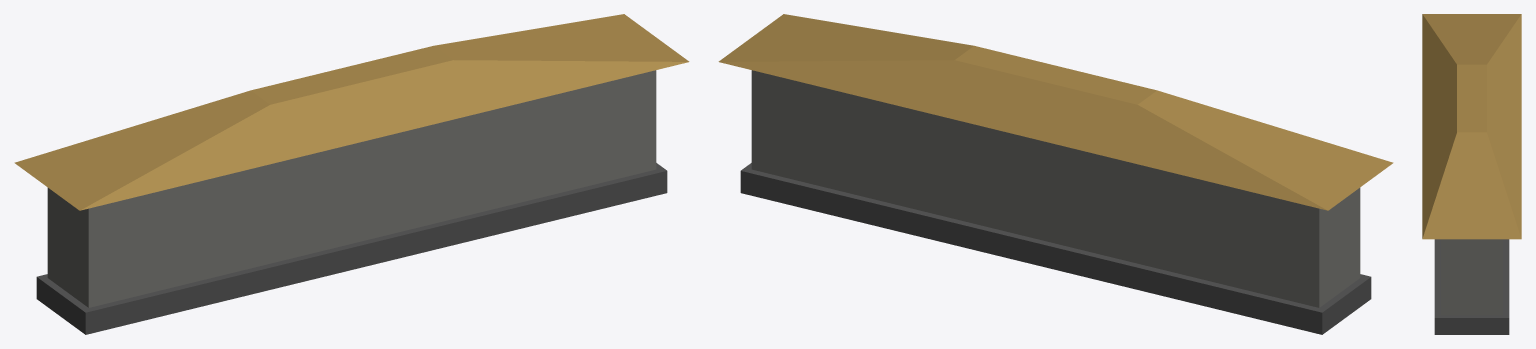
The model's file is SM_GZ_wall_green.fbx.
3 renders of one model, left to right at view 1: azimuth 30°, elevation 25°; view 2: azimuth 150°, elevation 25°; view 3: azimuth 270°, elevation 25°, orthographic. The views are drawn at different scales.
Parts seen in each view (by area): view 1: SM_GZ_wall_green; view 2: SM_GZ_wall_green; view 3: SM_GZ_wall_green.
Part boxes in pixels (<box>): SM_GZ_wall_green: <box>14,14,689,334</box>; SM_GZ_wall_green: <box>718,14,1393,334</box>; SM_GZ_wall_green: <box>1422,14,1521,334</box>.
Bounding box in the file's own units: 860 × 230 × 160.
